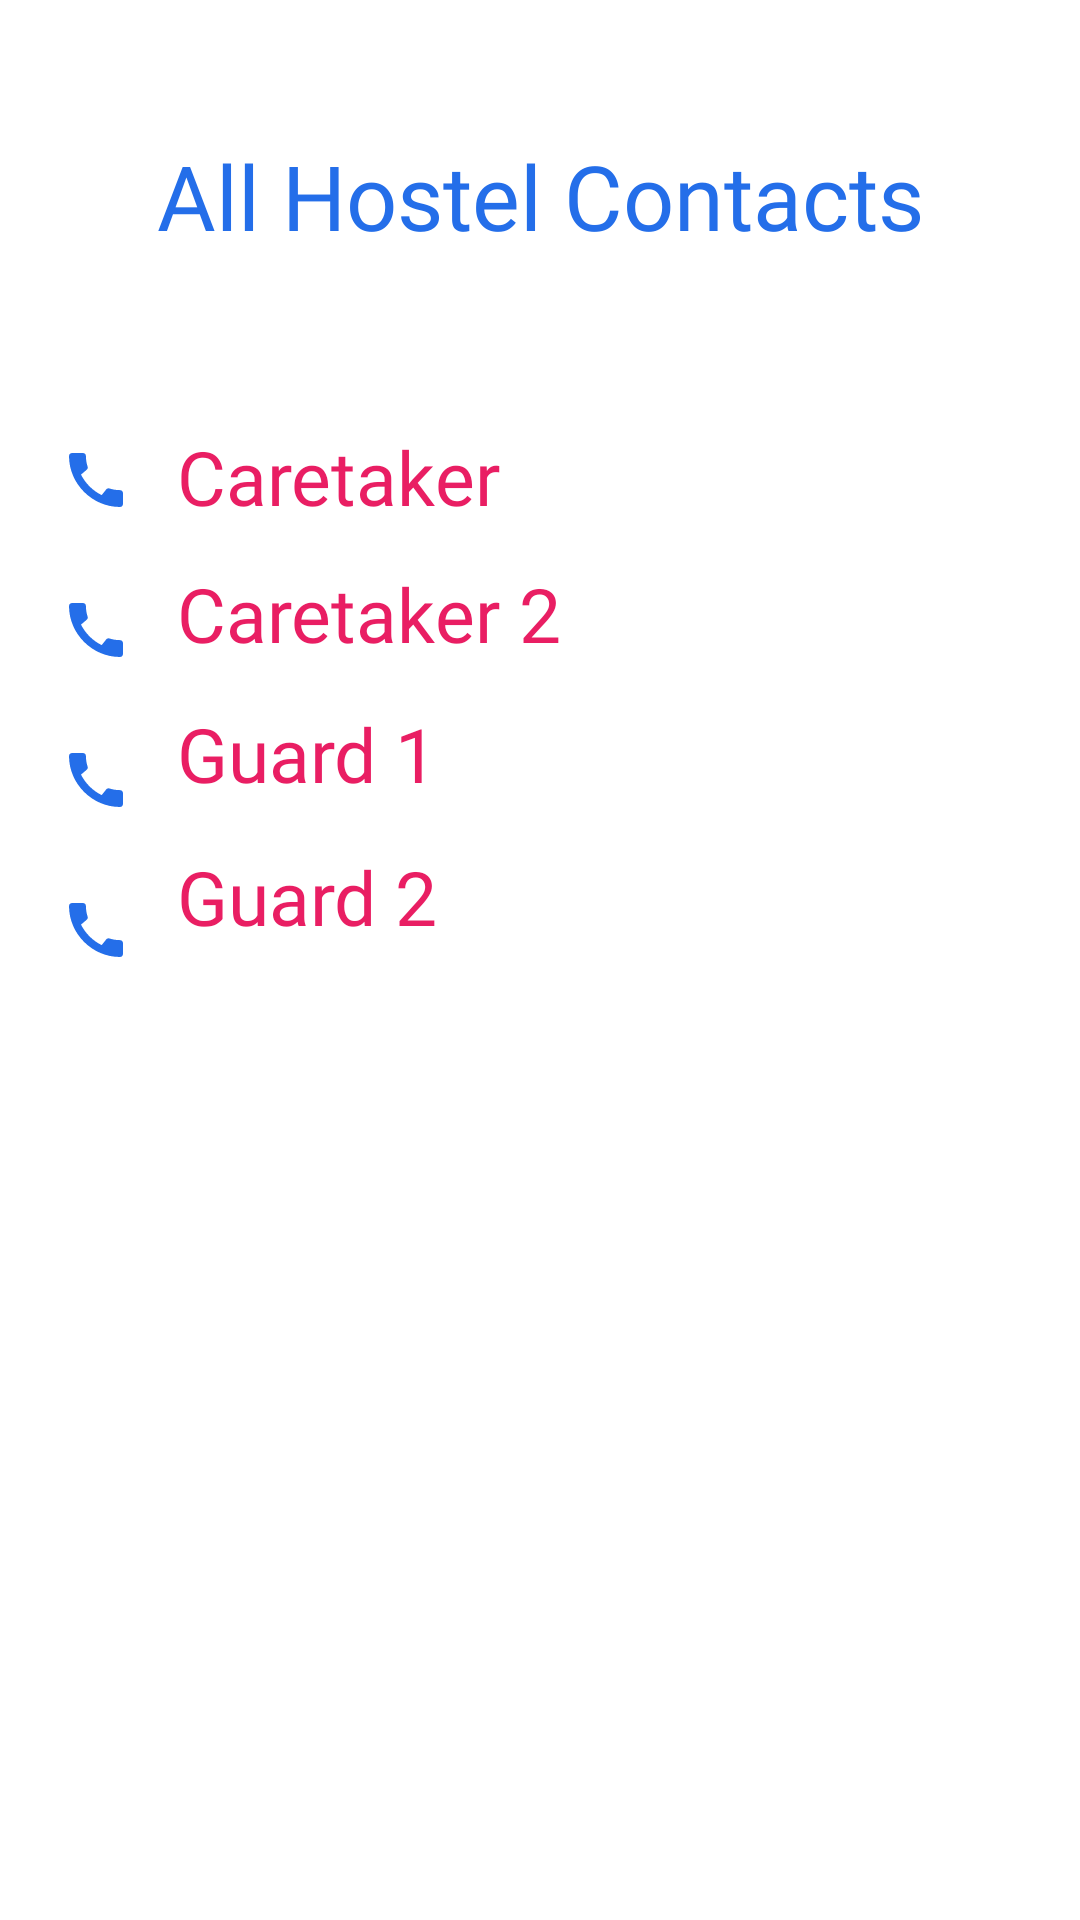

Icons on this 1080x1920 Android screen, each with its box as (x1, y1, x2, y2):
call: (69, 453, 123, 507), (69, 603, 123, 657), (69, 753, 123, 807), (69, 903, 123, 957)
